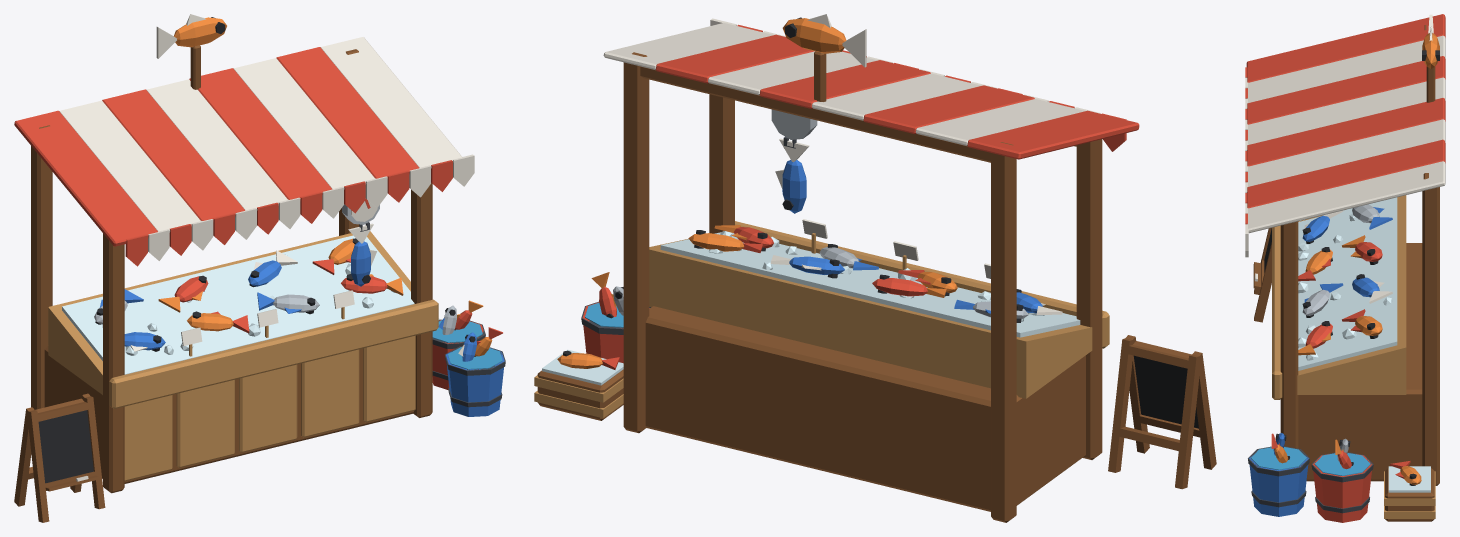
File: fish-market-stand.glb
3 renders of one model, left to right at view 1: azimuth 30°, elevation 25°; view 2: azimuth 150°, elevation 25°; view 3: azimuth 270°, elevation 25°, orthographic. The views are drawn at different scales.
Parts seen in each view (by area): view 1: Counter_Ice, Counter_Lip, Awning_Valance, Awning_Stripe1, Awning_Stripe3, Awning_Stripe7, Awning_Stripe5, Awning_Stripe2, Awning_Stripe6, Awning_Stripe8, Awning_Stripe4, Post_Front_L (+25 smaller); view 2: Counter, Counter_Tray, Post_Back_L, Post_Back_R, Counter_Ice, Chalkboard_Frame, Post_Front_L, Awning_Stripe1, Beam_Back, Awning_Stripe3, Post_Front_R, Awning_Stripe7 (+20 smaller); view 3: Counter, Counter_Ice, Counter_Tray, Post_Back_R, Awning_Stripe8, Awning_Stripe7, Awning_Stripe5, Awning_Stripe1, Awning_Stripe3, Awning_Stripe6, Post_Front_R, Awning_Stripe4 (+23 smaller).
Boxes of the visible parts, x1=… form: Counter_Ice: x1=62, y1=235, x2=414, y2=374; Counter_Lip: x1=109, y1=299, x2=438, y2=408; Awning_Valance: x1=125, y1=154, x2=474, y2=266; Awning_Stripe1: x1=14, y1=110, x2=157, y2=246; Awning_Stripe3: x1=102, y1=89, x2=244, y2=221; Awning_Stripe7: x1=276, y1=47, x2=419, y2=178; Awning_Stripe5: x1=189, y1=68, x2=332, y2=200; Awning_Stripe2: x1=59, y1=100, x2=200, y2=232; Awning_Stripe6: x1=233, y1=58, x2=374, y2=189; Awning_Stripe8: x1=320, y1=37, x2=461, y2=168; Awning_Stripe4: x1=146, y1=79, x2=287, y2=210; Post_Front_L: x1=103, y1=233, x2=124, y2=493; Counter: x1=645, y1=306, x2=1085, y2=511; Counter_Tray: x1=649, y1=239, x2=1092, y2=398; Post_Back_L: x1=991, y1=142, x2=1016, y2=522; Post_Back_R: x1=623, y1=52, x2=649, y2=433; Counter_Ice: x1=660, y1=232, x2=1080, y2=337; Chalkboard_Frame: x1=1108, y1=335, x2=1216, y2=489; Post_Front_L: x1=1076, y1=139, x2=1102, y2=459; Awning_Stripe1: x1=967, y1=110, x2=1139, y2=159; Beam_Back: x1=640, y1=66, x2=991, y2=162; Awning_Stripe3: x1=863, y1=85, x2=1034, y2=133; Post_Front_R: x1=709, y1=94, x2=734, y2=233; Awning_Stripe7: x1=655, y1=34, x2=814, y2=83; Counter: x1=1298, y1=243, x2=1422, y2=481; Counter_Ice: x1=1298, y1=197, x2=1397, y2=370; Counter_Tray: x1=1297, y1=195, x2=1406, y2=394; Post_Back_R: x1=1422, y1=173, x2=1439, y2=485; Awning_Stripe8: x1=1247, y1=161, x2=1445, y2=233; Awning_Stripe7: x1=1247, y1=139, x2=1445, y2=208; Awning_Stripe5: x1=1247, y1=98, x2=1445, y2=166; Awning_Stripe1: x1=1246, y1=14, x2=1445, y2=82; Awning_Stripe3: x1=1247, y1=56, x2=1445, y2=124; Awning_Stripe6: x1=1247, y1=119, x2=1445, y2=186; Post_Front_R: x1=1280, y1=221, x2=1298, y2=448; Awning_Stripe4: x1=1247, y1=77, x2=1445, y2=144.
Bounding box in the file's own units: 15.58 × 11.89 × 5.67.
